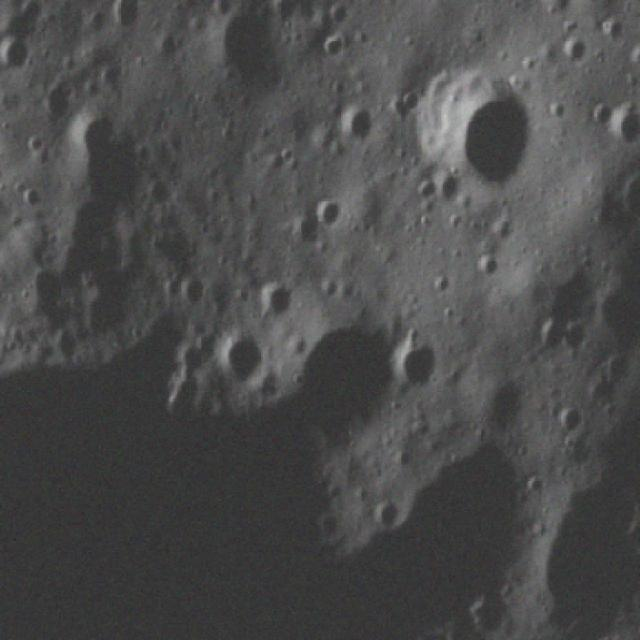crater: (523, 471, 640, 640), (404, 67, 542, 198), (266, 302, 396, 440), (60, 102, 155, 216), (196, 5, 290, 100), (208, 324, 266, 387), (392, 327, 442, 399), (476, 378, 524, 436), (460, 589, 512, 640), (329, 99, 377, 147), (257, 276, 294, 329), (47, 322, 91, 362), (364, 490, 404, 532), (607, 101, 640, 150), (554, 321, 591, 364), (0, 33, 38, 74), (312, 191, 352, 229), (149, 268, 185, 310), (38, 81, 73, 124), (592, 15, 632, 52), (104, 0, 147, 34), (556, 33, 592, 72), (176, 270, 209, 310), (535, 318, 571, 354), (431, 170, 464, 208), (552, 403, 585, 440), (390, 90, 422, 127), (586, 96, 616, 135), (148, 32, 184, 62), (474, 246, 501, 286), (398, 624, 463, 640), (324, 0, 356, 31), (318, 31, 348, 64), (270, 0, 308, 25), (428, 270, 458, 299), (545, 98, 573, 128), (412, 173, 438, 204), (314, 272, 340, 300), (203, 0, 239, 20), (20, 182, 42, 212), (526, 469, 546, 498), (626, 39, 640, 72)
